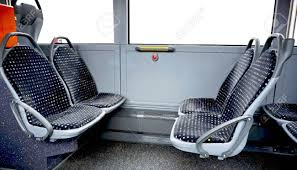seat: (3, 42, 94, 134)
